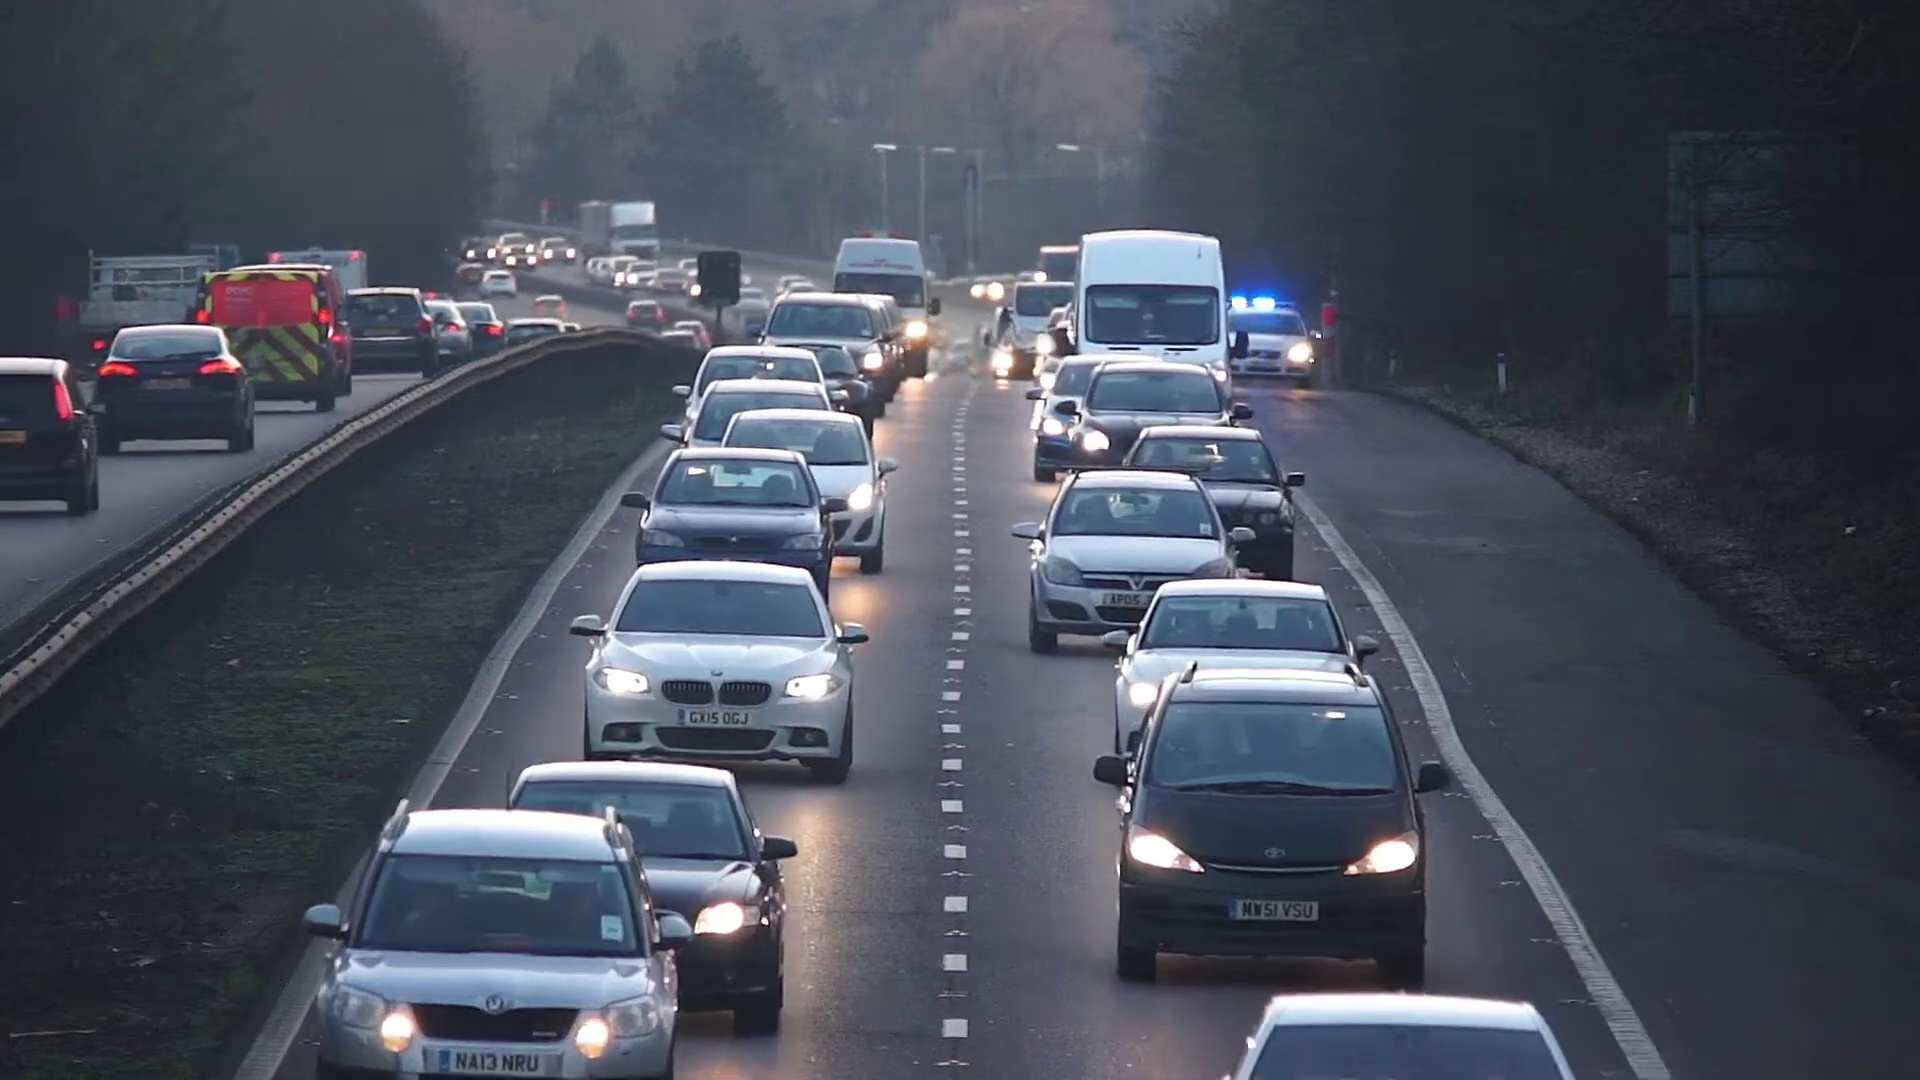license_plate: (434, 1051, 548, 1077), (1230, 900, 1320, 923), (678, 705, 752, 730), (1103, 591, 1148, 608)
